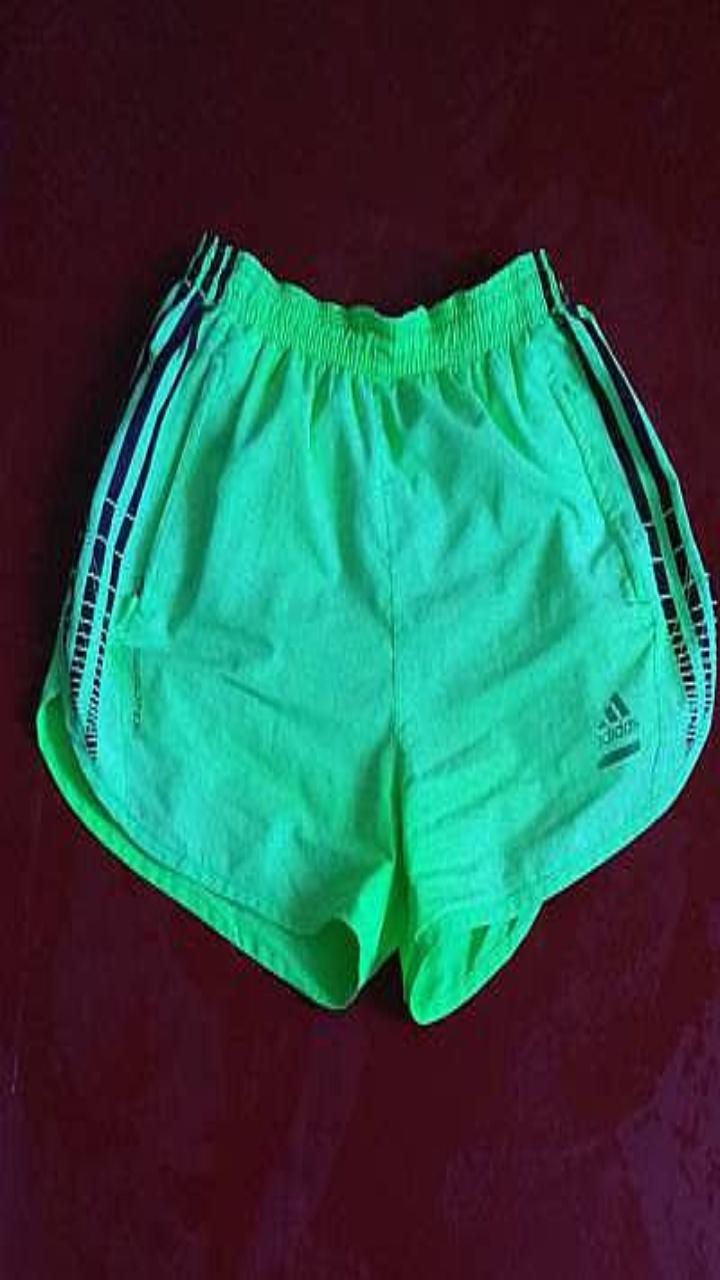Shorts: (36, 232, 715, 1023)
